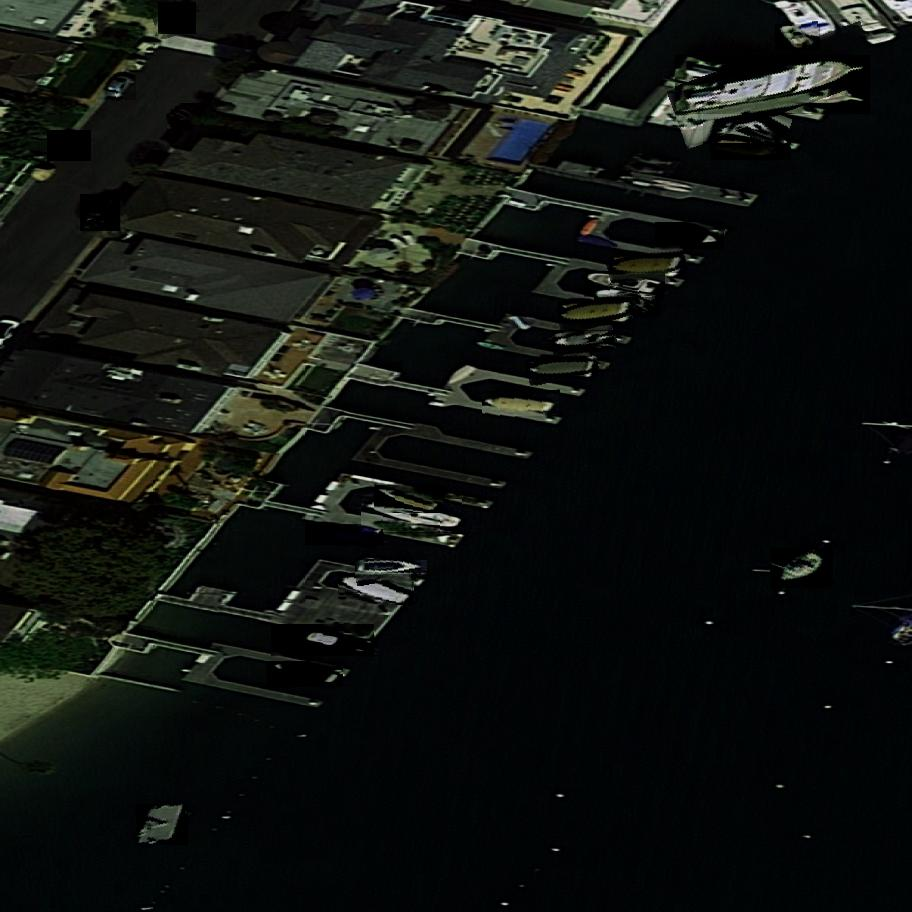ship: (672, 56, 875, 116), (703, 91, 788, 149), (271, 623, 374, 660), (362, 497, 462, 535), (770, 541, 834, 595), (338, 570, 412, 608), (594, 278, 661, 319), (132, 805, 192, 846), (267, 659, 343, 690), (584, 270, 665, 298), (374, 483, 444, 515), (656, 221, 725, 252), (774, 17, 820, 60), (306, 523, 383, 548), (712, 139, 790, 161), (482, 394, 559, 416), (558, 303, 633, 324), (552, 331, 614, 351), (609, 257, 685, 273), (527, 360, 596, 375), (356, 561, 427, 574)
small-vehicle: (47, 122, 91, 171), (81, 187, 121, 239), (97, 66, 136, 108), (159, 0, 196, 42), (167, 98, 206, 134)
